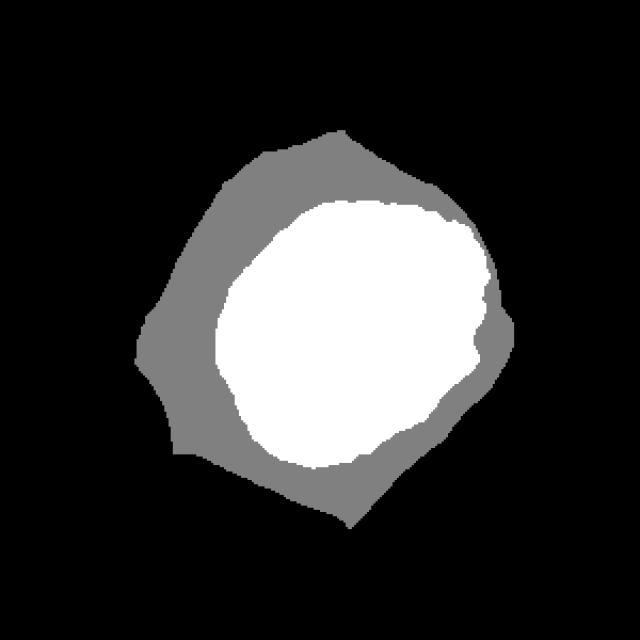WBC: (130, 124, 516, 544)
